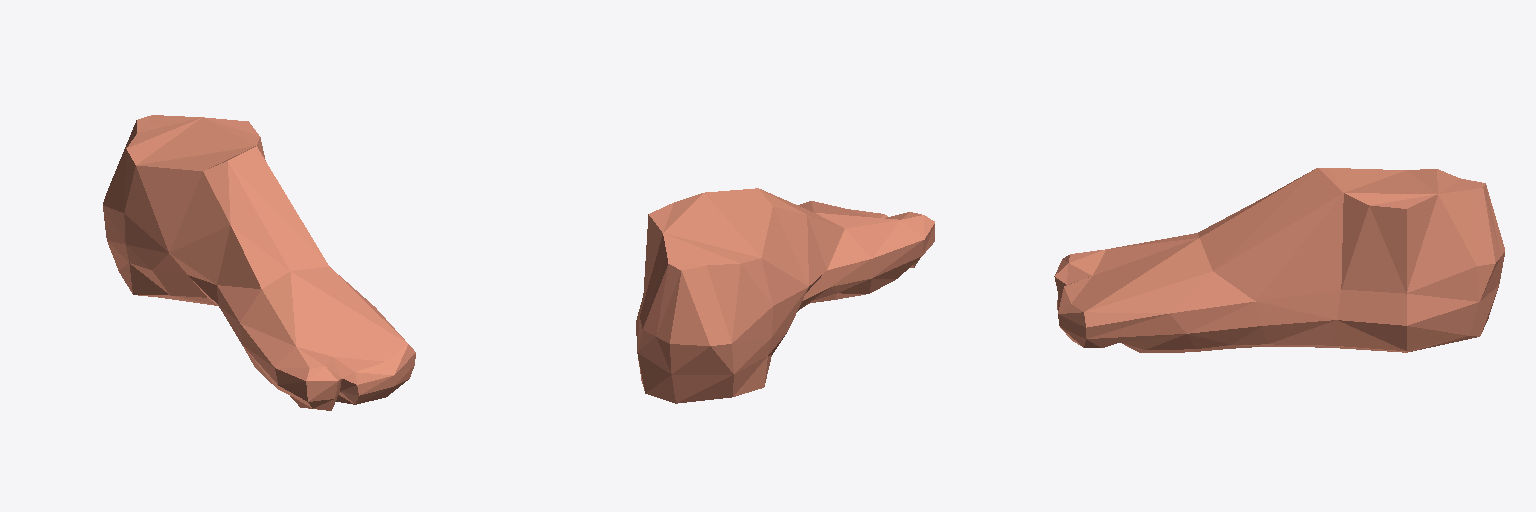
Rendered from leftfoot.obj.
3 renders of one model, left to right at view 1: azimuth 30°, elevation 25°; view 2: azimuth 150°, elevation 25°; view 3: azimuth 270°, elevation 25°, orthographic.
Parts seen in each view (by area): view 1: cube1_cut2; view 2: cube1_cut2; view 3: cube1_cut2.
Boxes of the visible parts, <box> form: cube1_cut2: <box>103,115,415,410</box>; cube1_cut2: <box>636,188,934,403</box>; cube1_cut2: <box>1054,168,1504,352</box>.
Size of the model in its own units: 0.4672 by 0.5437 by 1.33.